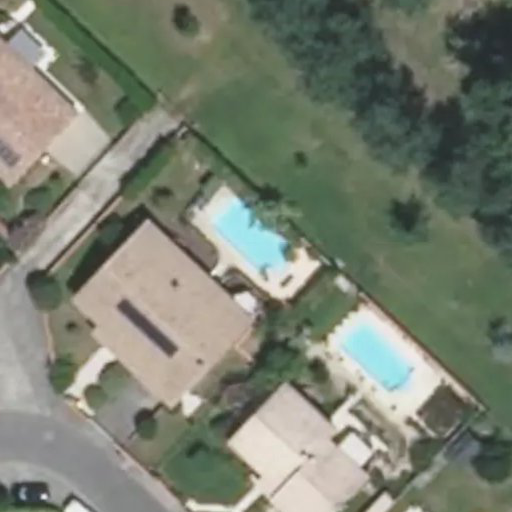pool: (215, 230, 296, 253)
